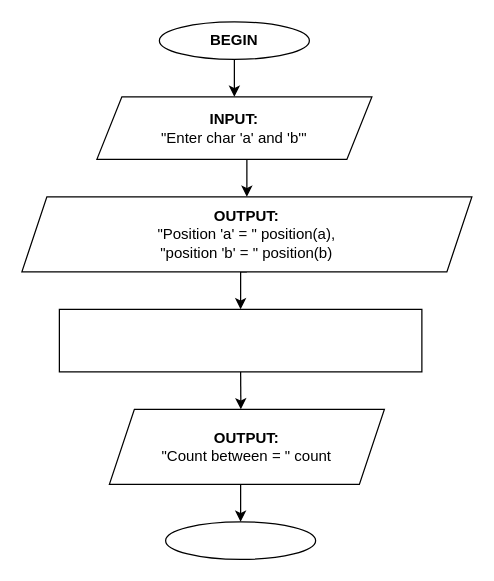
This 494x581 diagram has some shape labels left out. Here are the shapes that lost their labels. From the top down, the centre of each, then its label:
At (x=240, y=340): "count = max(0, abs(position(a) - position(b)) - 1)".
At (x=240, y=540): "END".
